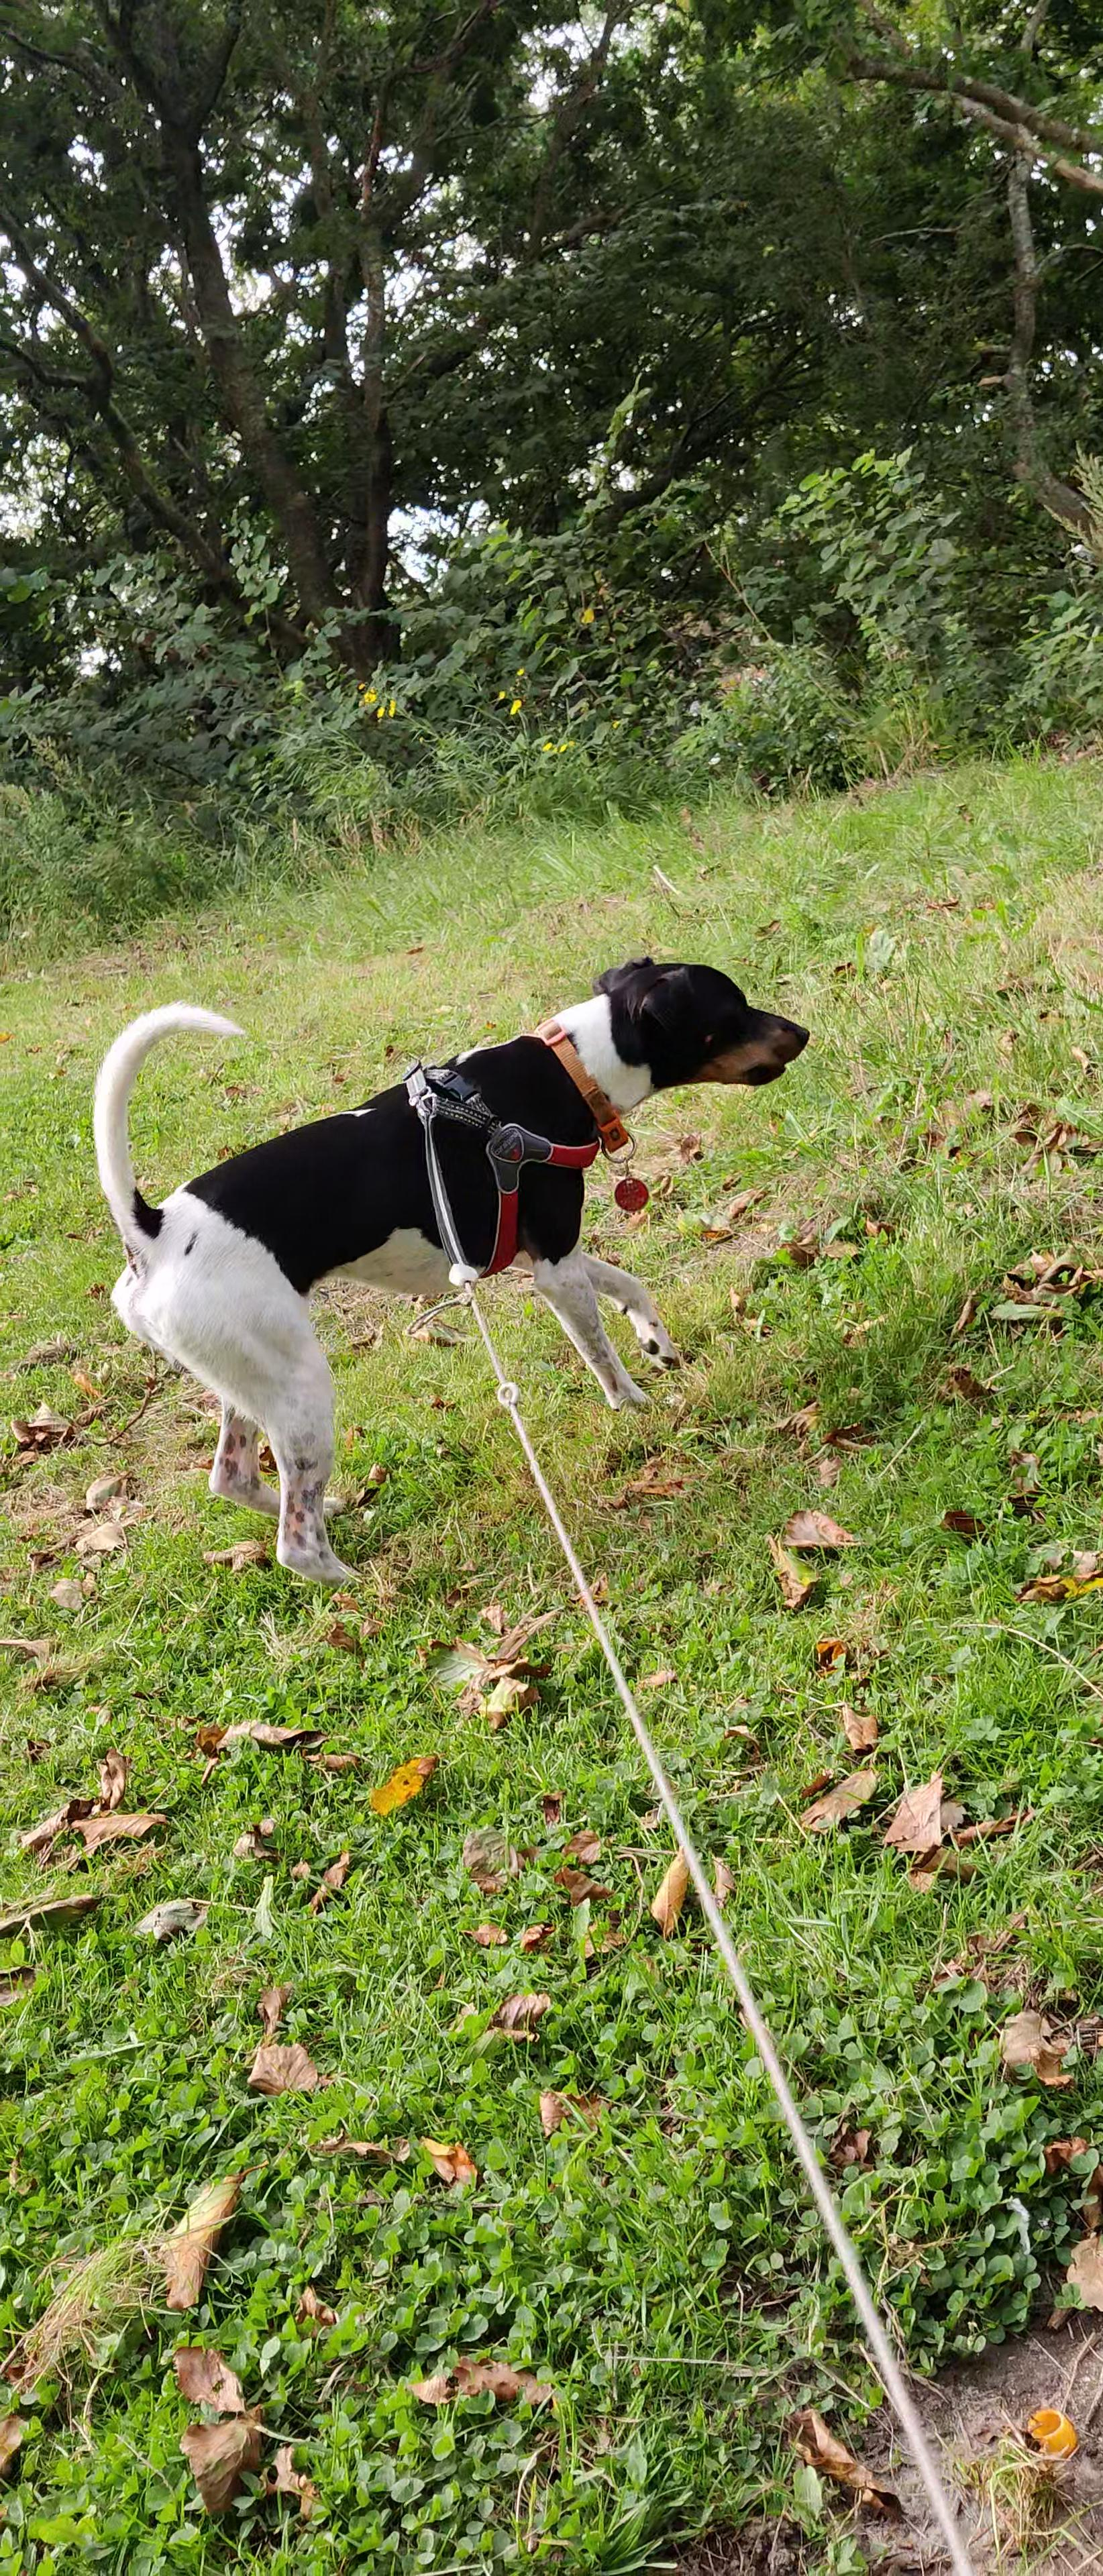Dog: (82, 946, 812, 1590)
